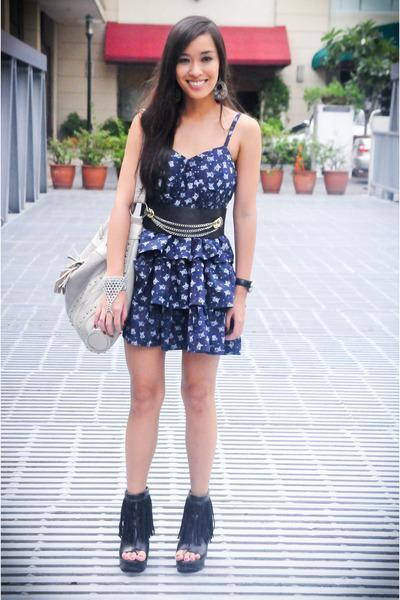dress: (122, 143, 251, 359)
shoe: (118, 492, 262, 576)
